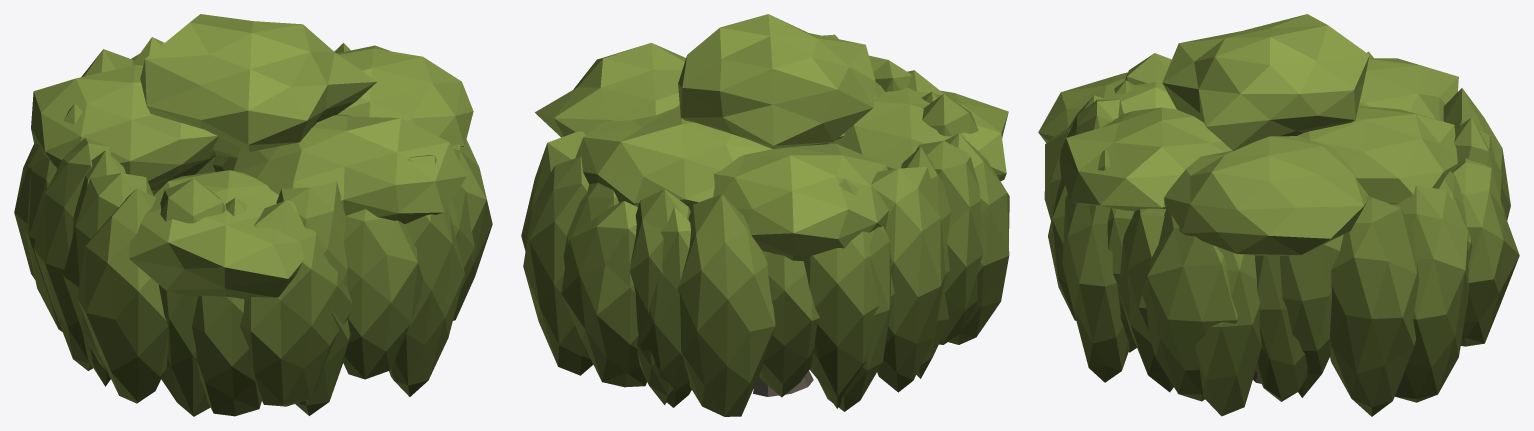
Rendered from willow.glb.
The picture shows the model from 3 angles, left to right: view 1: azimuth 30°, elevation 25°; view 2: azimuth 150°, elevation 25°; view 3: azimuth 270°, elevation 25°; orthographic projection. The views are drawn at different scales.
Parts seen in each view (by area): view 1: willow; view 2: willow; view 3: willow.
Part boxes in pixels (box(x1,y1,x2,y2)): willow: box(14, 14, 492, 416); willow: box(521, 14, 1009, 416); willow: box(1038, 14, 1519, 416).
Size of the model in its own units: 14.56 by 11.98 by 15.12.
